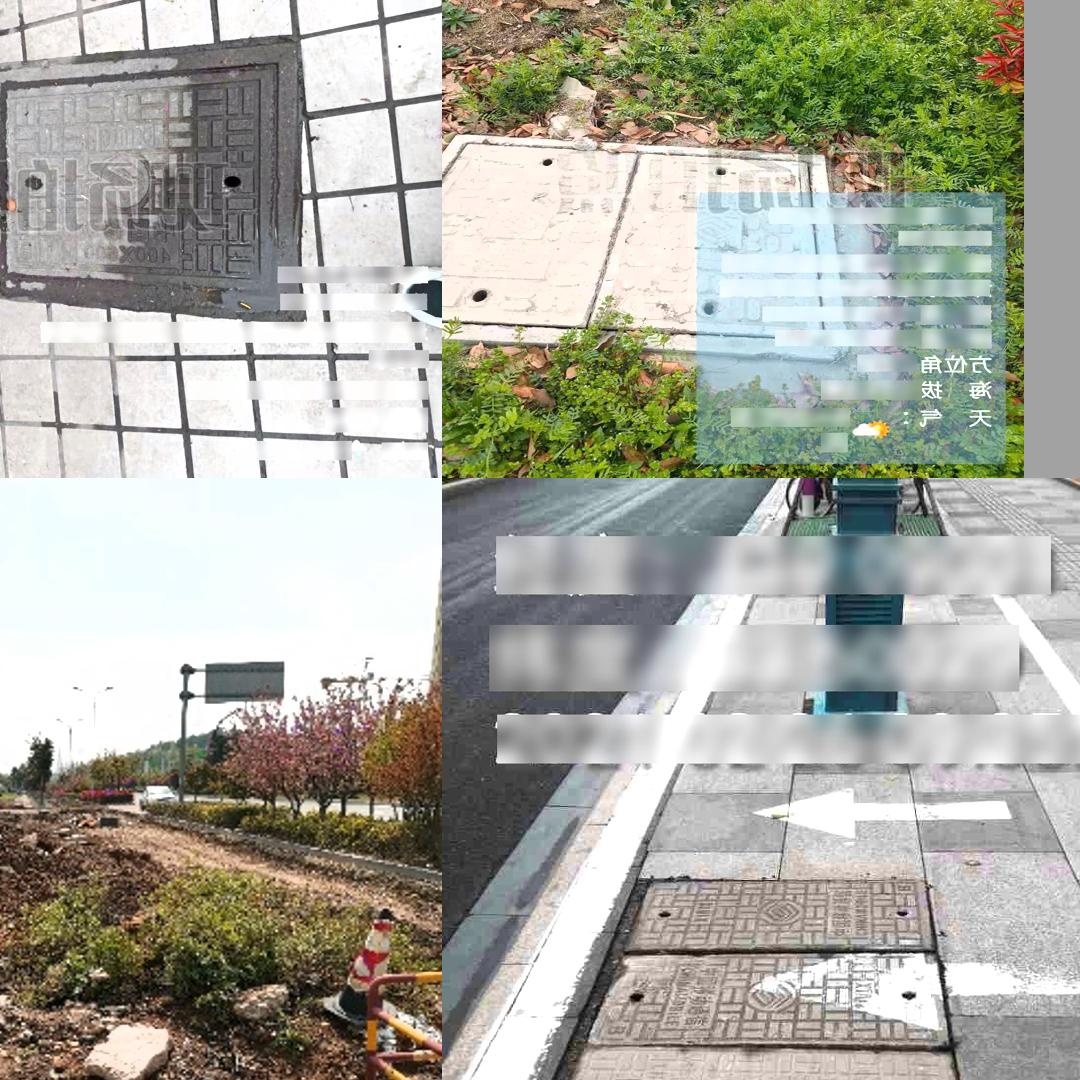good: (518, 868, 979, 1080), (442, 133, 850, 360), (0, 41, 299, 304)
